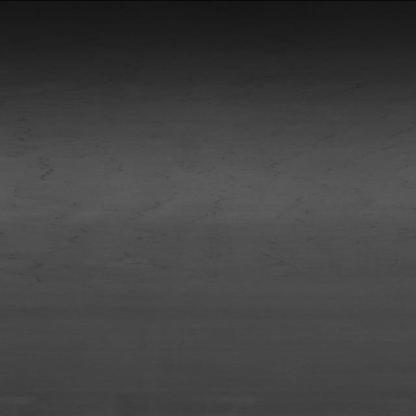silk_spot: (95, 172, 331, 240)
